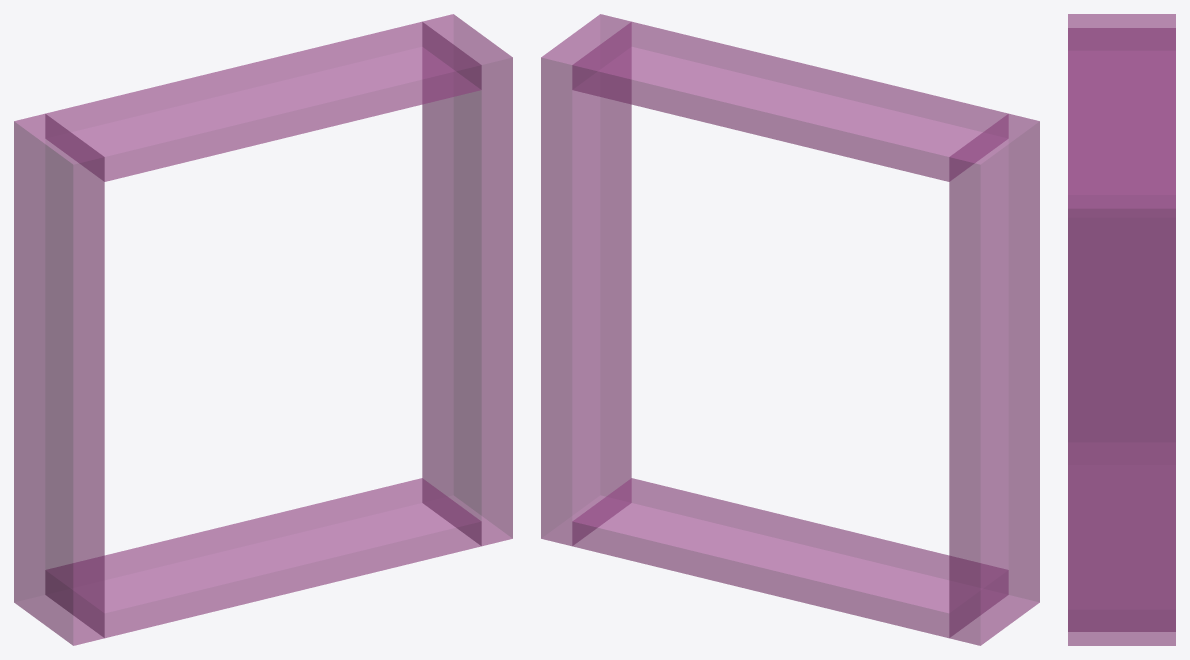
File: SM_Bld_Door_Double_Large_01_Collision.fbx
The picture shows the model from 3 angles, left to right: view 1: azimuth 30°, elevation 25°; view 2: azimuth 150°, elevation 25°; view 3: azimuth 270°, elevation 25°; orthographic projection. The views are drawn at different scales.
Visible parts, largest first — view 1: SM_Bld_Door_Double_Large_01_Collision; view 2: SM_Bld_Door_Double_Large_01_Collision; view 3: SM_Bld_Door_Double_Large_01_Collision.
Part boxes in pixels (<box>): SM_Bld_Door_Double_Large_01_Collision: <box>14,14,512,645</box>; SM_Bld_Door_Double_Large_01_Collision: <box>541,14,1039,645</box>; SM_Bld_Door_Double_Large_01_Collision: <box>1068,14,1175,645</box>.
Bounding box in the file's own units: 259 × 272 × 60.75.
